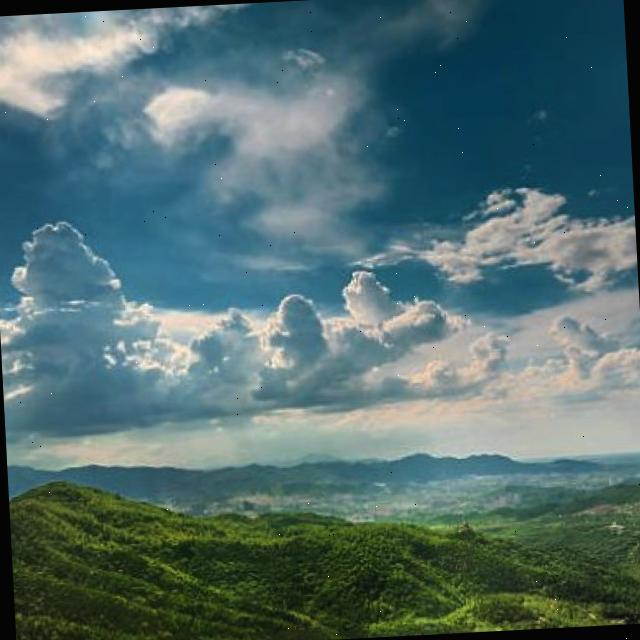St: (1, 158, 640, 460)
